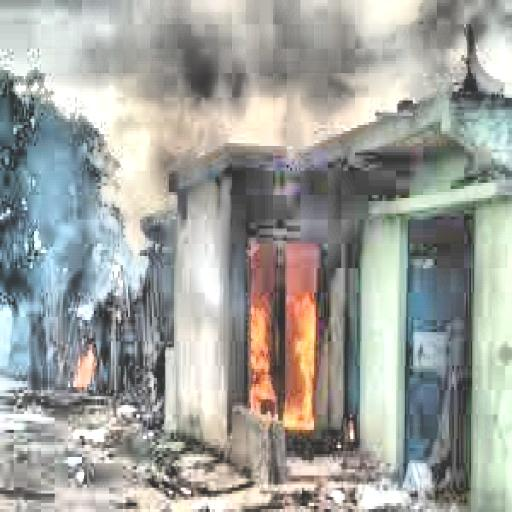fire: (232, 253, 331, 433), (62, 347, 98, 387)
